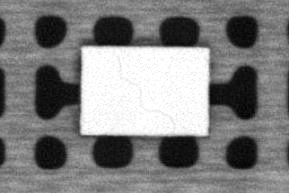DIE_CRACK: (116, 57, 178, 129)
